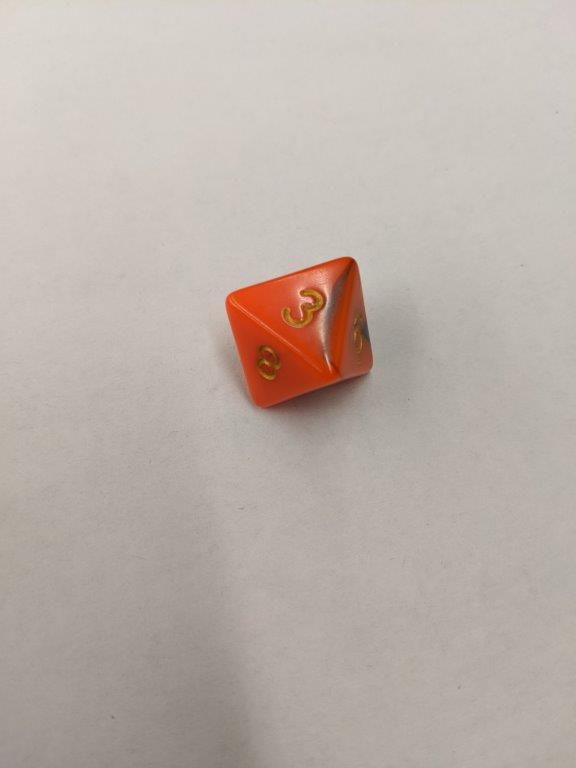d8-3: (223, 258, 376, 409)
